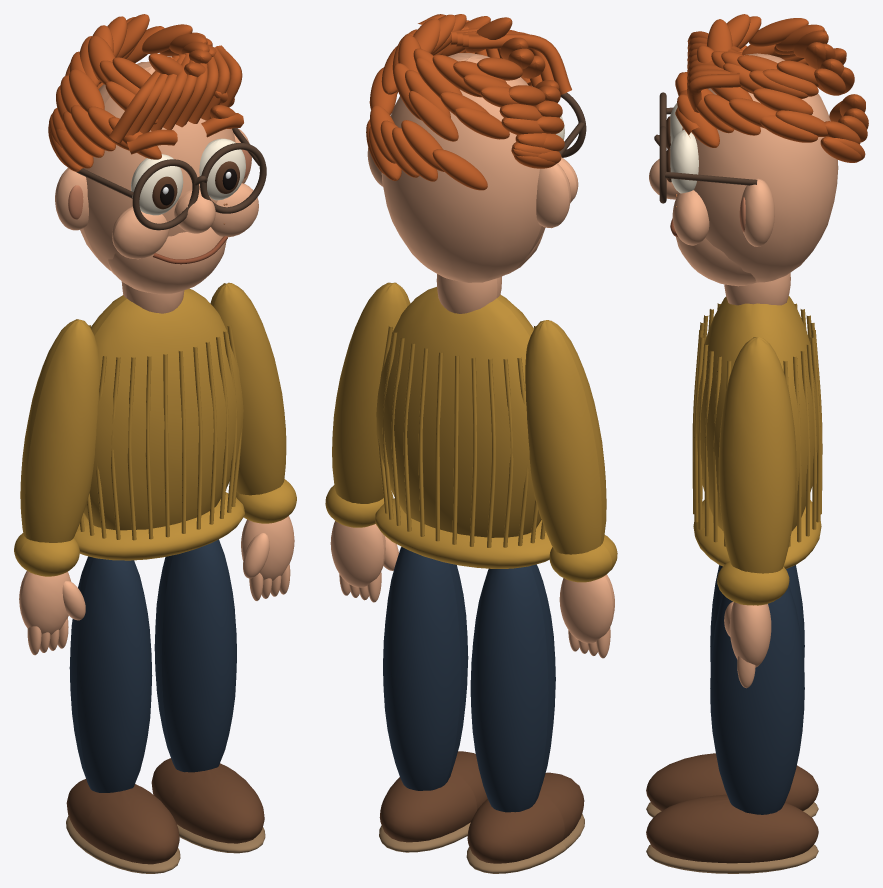
The model's file is grisha.glb.
3 views of the same model, side by side, from view 1: azimuth 30°, elevation 25°; view 2: azimuth 150°, elevation 25°; view 3: azimuth 270°, elevation 25° (orthographic). The views are drawn at different scales.
Visible parts, largest first — view 1: Брюки (×2), Свитер, Рукав (×2), Обувь (×2), Вязка (×9), Прядь волос (×9), Голова, Чёлка (×9), Низ свитера, Ладонь (×2), Подбородок, Манжета (×2) (+9 smaller); view 2: Брюки (×2), Свитер, Рукав (×2), Голова, Прядь волос (×15), Обувь (×2), Вязка (×10), Ладонь (×2), Низ свитера, Манжета (×2), Подошва (×2), Ухо (+2 smaller); view 3: Брюки (×2), Рукав, Голова, Прядь волос (×20), Обувь (×2), Свитер, Вязка (×9), Манжета, Ладонь, Низ свитера, Подошва, Подбородок (+8 smaller).
Boxes of the visible parts, x1,y1,x2,y2 form: Брюки (×2): (69, 539, 236, 792); Свитер: (83, 288, 243, 530); Рукав (×2): (20, 282, 286, 542); Обувь (×2): (66, 758, 264, 864); Вязка (×9): (111, 331, 237, 540); Прядь волос (×9): (55, 14, 192, 168); Голова: (80, 61, 235, 270); Чёлка (×9): (109, 45, 242, 143); Низ свитера: (74, 492, 244, 560); Ладонь (×2): (19, 516, 294, 635); Подбородок: (107, 227, 226, 294); Манжета (×2): (14, 479, 296, 576); Брюки (×2): (383, 547, 555, 812); Свитер: (376, 287, 541, 537); Рукав (×2): (332, 282, 606, 554); Голова: (381, 53, 545, 282); Прядь волос (×15): (370, 17, 545, 190); Обувь (×2): (379, 751, 584, 863); Вязка (×10): (382, 331, 528, 547); Ладонь (×2): (330, 521, 614, 643); Низ свитера: (375, 498, 552, 568); Манжета (×2): (325, 485, 617, 582); Подошва (×2): (379, 814, 584, 873); Ухо: (536, 163, 570, 228); Брюки (×2): (710, 565, 804, 814); Рукав: (718, 337, 796, 573); Голова: (682, 53, 838, 282); Прядь волос (×20): (677, 14, 861, 162); Обувь (×2): (646, 753, 818, 863); Свитер: (696, 296, 819, 530); Вязка (×9): (693, 330, 822, 542); Манжета: (717, 561, 789, 605); Ладонь: (729, 602, 771, 667); Низ свитера: (693, 500, 821, 568); Подошва: (646, 844, 818, 873); Подбородок: (676, 236, 756, 286).
Size of the model in its own units: 1.16 by 3.23 by 0.8004.
